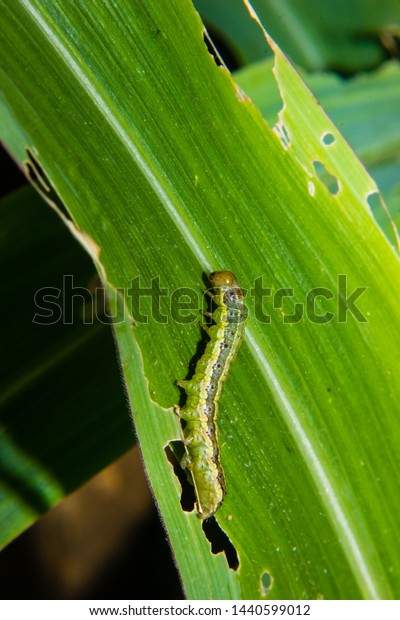Armyworm: (175, 258, 246, 522)
